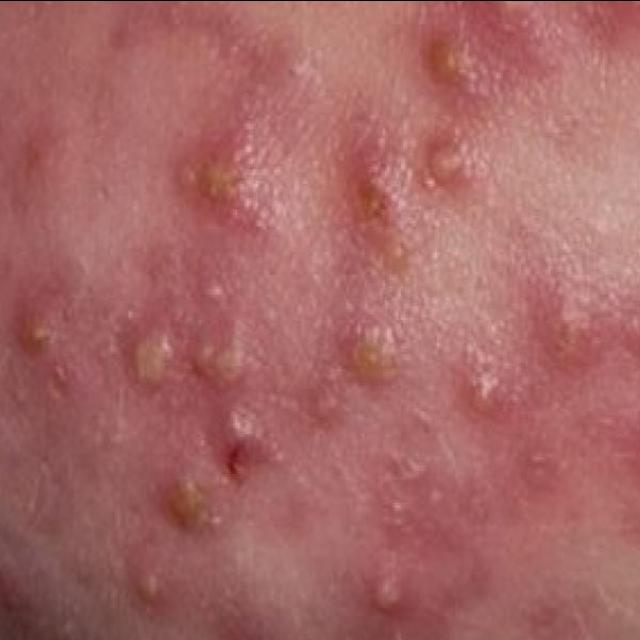pustule: (12, 0, 533, 635)
